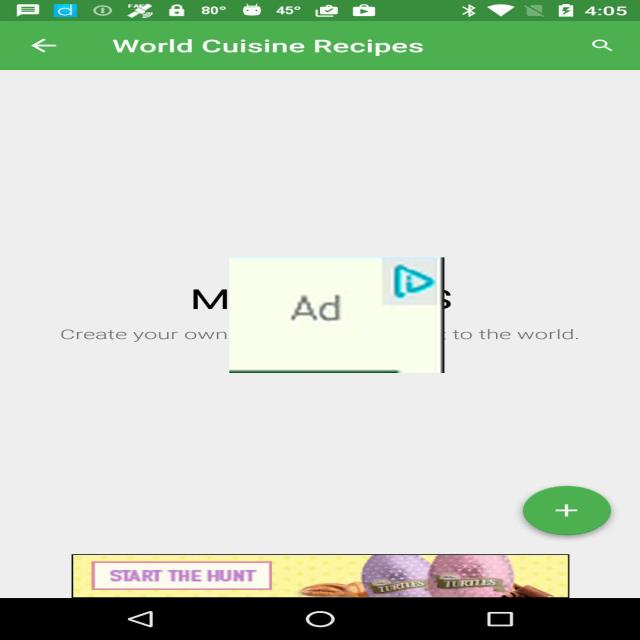sneaking: (230, 257, 444, 373)
